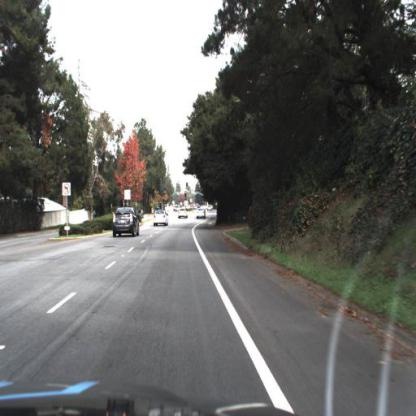car: (110, 203, 141, 246), (152, 208, 171, 233), (193, 204, 210, 227), (176, 205, 189, 226)
